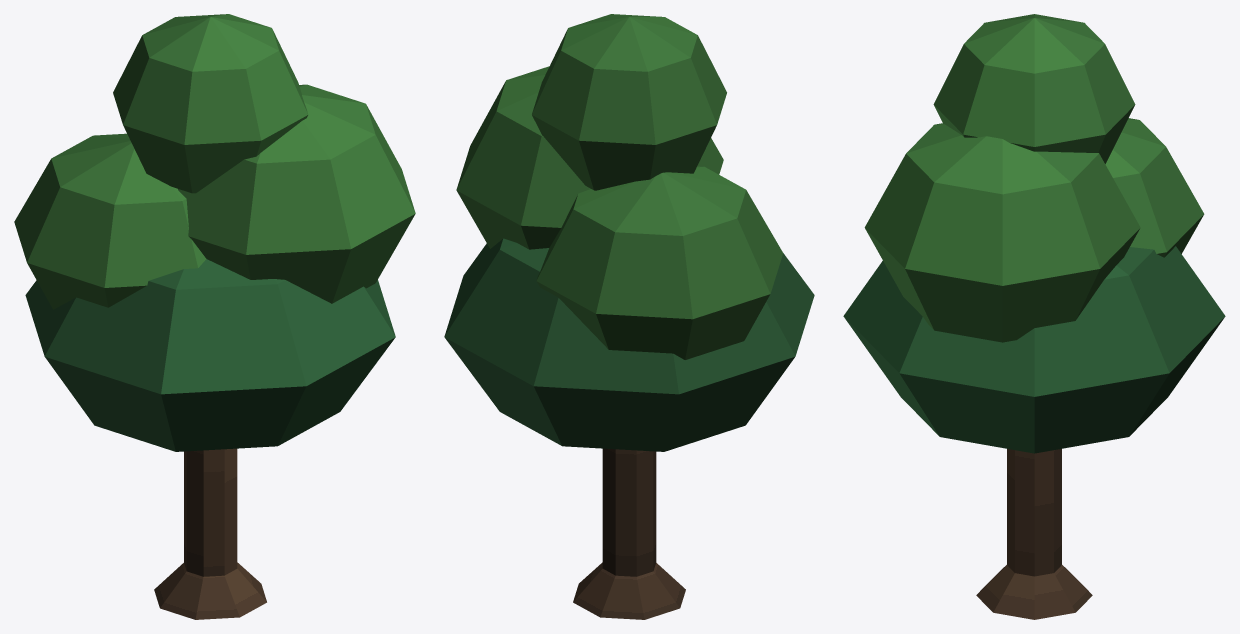
File: tree.glb
The picture shows the model from 3 angles, left to right: view 1: azimuth 30°, elevation 25°; view 2: azimuth 150°, elevation 25°; view 3: azimuth 270°, elevation 25°; orthographic projection.
Size of the model in its own units: 1.85 by 3 by 1.8.
Materials: 1 (1 with a texture image).
